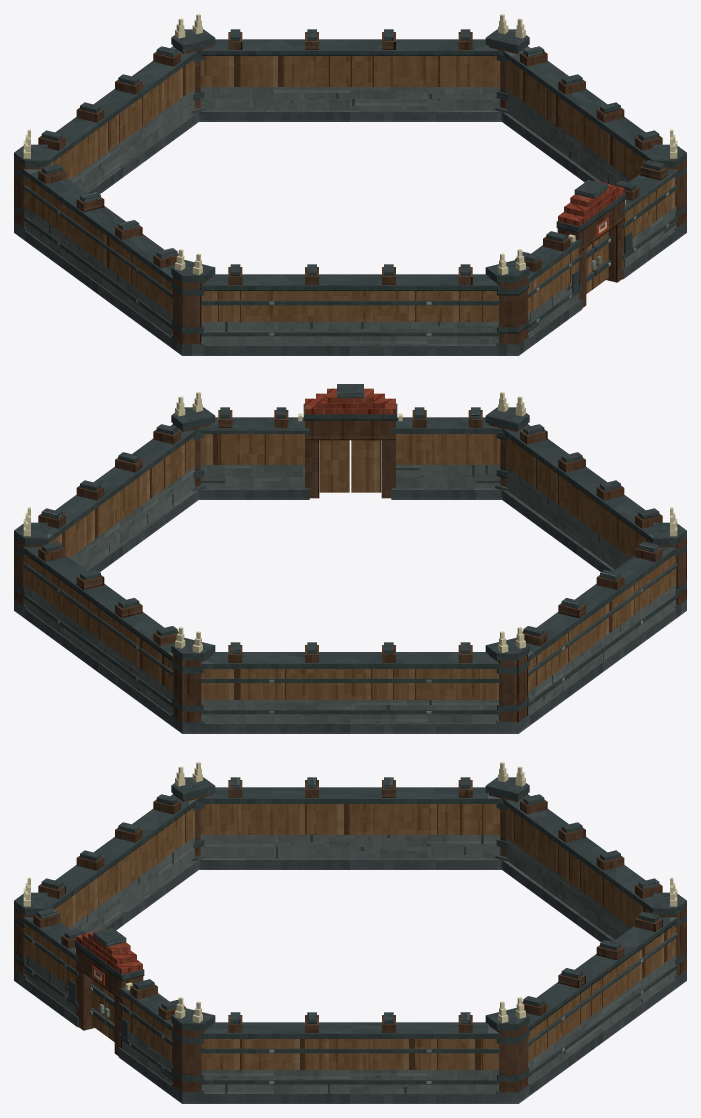
Rendered from orc_walls_level_2_hex_v1.glb.
3 renders of one model, top to bottom at view 1: azimuth 30°, elevation 25°; view 2: azimuth 150°, elevation 25°; view 3: azimuth 270°, elevation 25°, orthographic.
Visible parts, largest first — view 1: Orc_Walls_Level_2_Hex_V1_Architecture; view 2: Orc_Walls_Level_2_Hex_V1_Architecture; view 3: Orc_Walls_Level_2_Hex_V1_Architecture.
Part boxes in pixels (bbox=[...]): Orc_Walls_Level_2_Hex_V1_Architecture: bbox=[14, 14, 686, 355]; Orc_Walls_Level_2_Hex_V1_Architecture: bbox=[14, 384, 686, 733]; Orc_Walls_Level_2_Hex_V1_Architecture: bbox=[14, 762, 686, 1103].
Size of the model in its own units: 1.71 by 0.337 by 1.97.
1 material, 1 textured.
